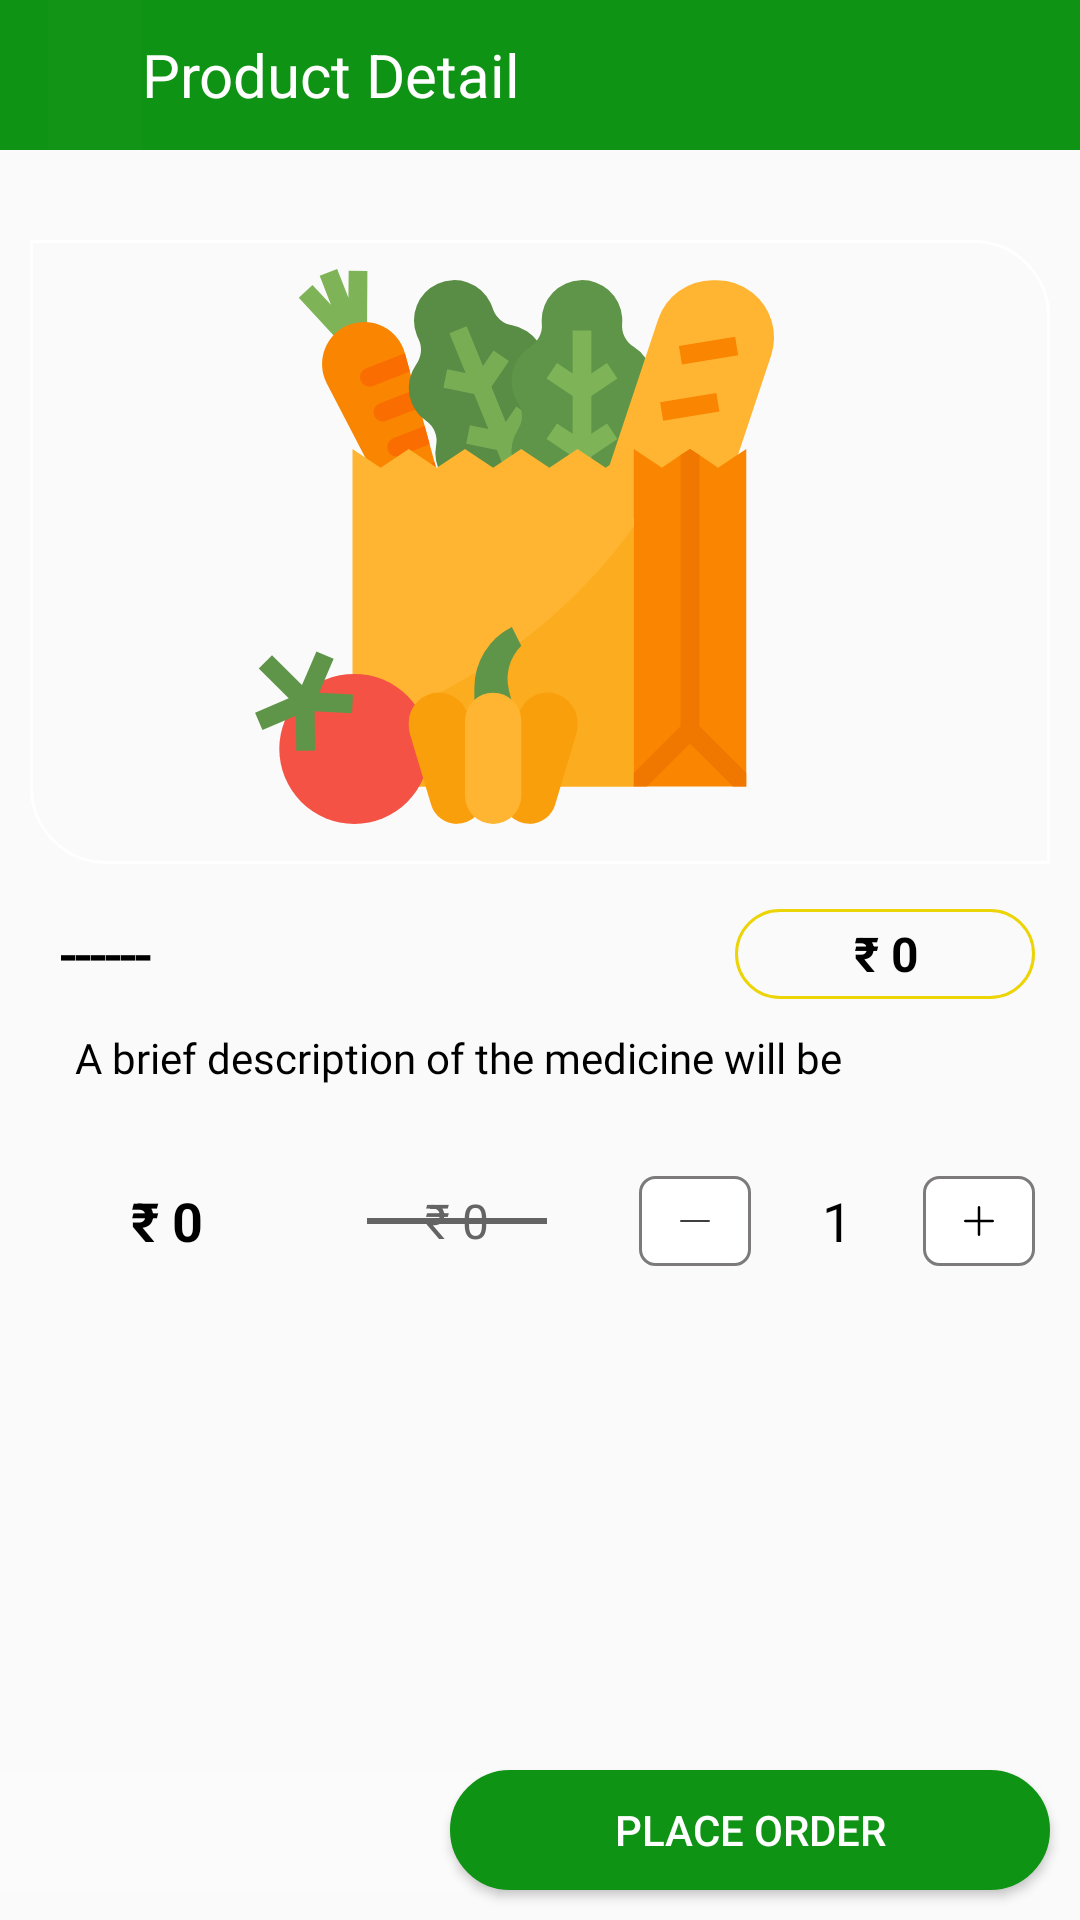

Icon click points for this 1080 x 1920 phone screenshot, format point (x, y):
minus: point (695, 1221)
plus: point (979, 1221)
